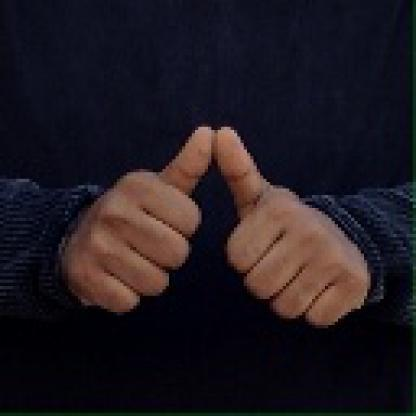A: (64, 123, 379, 332)
